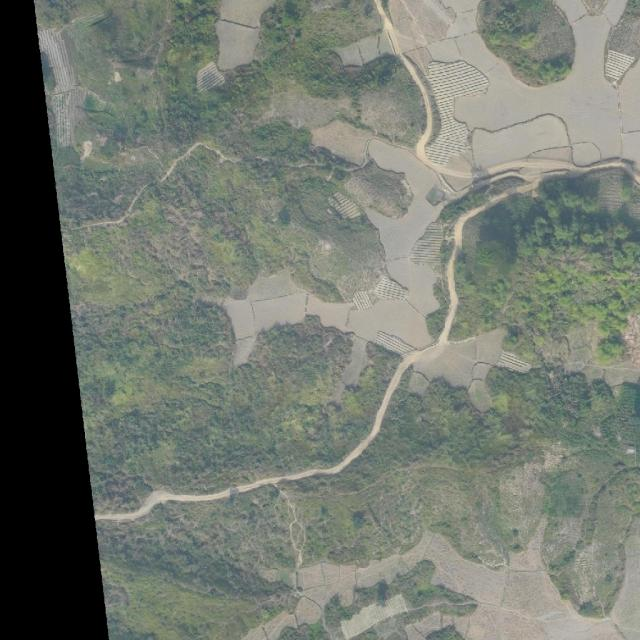greenland: (31, 126, 417, 512)
unmetalled_road: (100, 168, 598, 611), (316, 2, 575, 239)
